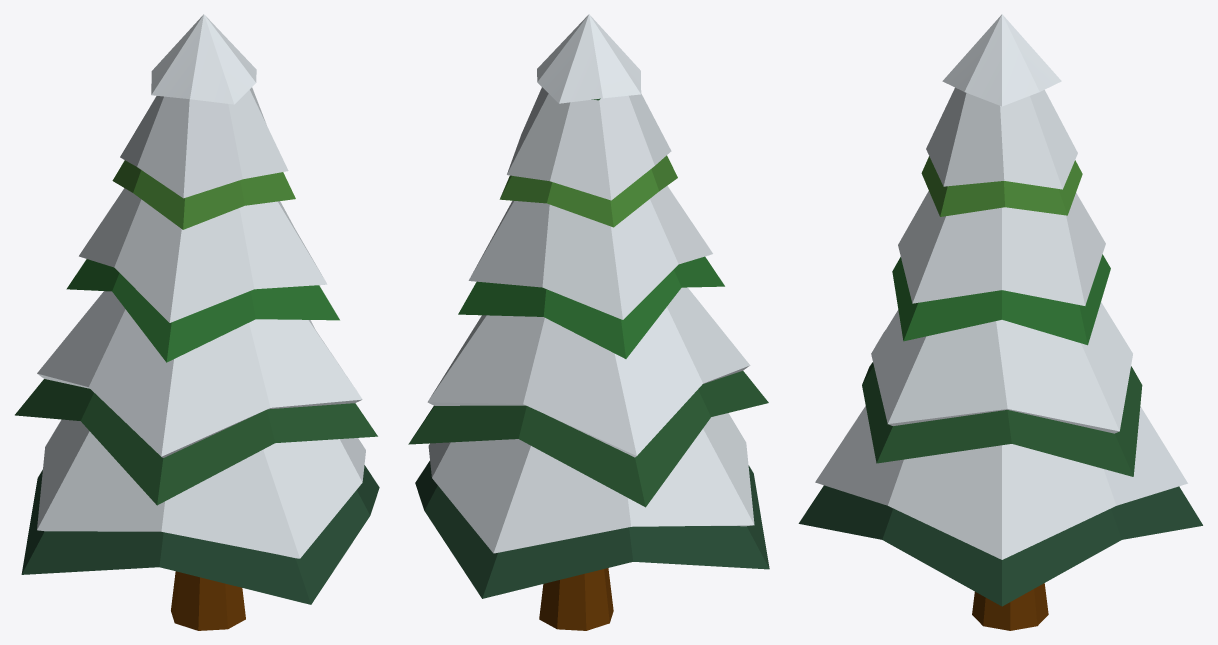
Rendered from pino_nev.obj.
3 renders of one model, left to right at view 1: azimuth 30°, elevation 25°; view 2: azimuth 150°, elevation 25°; view 3: azimuth 270°, elevation 25°, orthographic.
Visible parts, largest first — view 1: Tree.001; view 2: Tree.001; view 3: Tree.001.
Boxes of the visible parts, x1,y1,x2,y2 form: Tree.001: [15, 14, 379, 630]; Tree.001: [408, 14, 769, 630]; Tree.001: [798, 14, 1202, 630].
Bounding box in the file's own units: 21.74 × 35.16 × 21.64.
